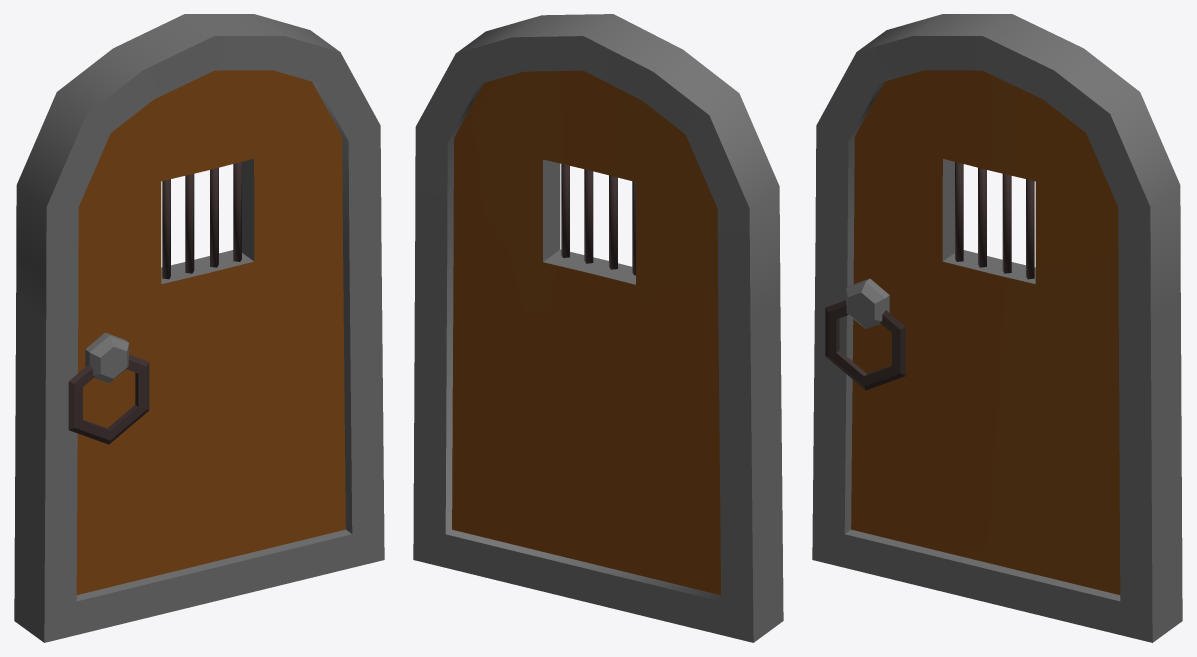
File: Deur 1.fbx
The picture shows the model from 3 angles, left to right: view 1: azimuth 30°, elevation 25°; view 2: azimuth 150°, elevation 25°; view 3: azimuth 330°, elevation 25°; orthographic projection.
Visible parts, largest first — view 1: Circle.004; view 2: Circle.004; view 3: Circle.004.
Part boxes in pixels (<box>): Circle.004: <box>14,14,384,642</box>; Circle.004: <box>413,14,783,642</box>; Circle.004: <box>812,14,1182,642</box>.
Bounding box in the file's own units: 1.59 × 2.53 × 0.3329.
